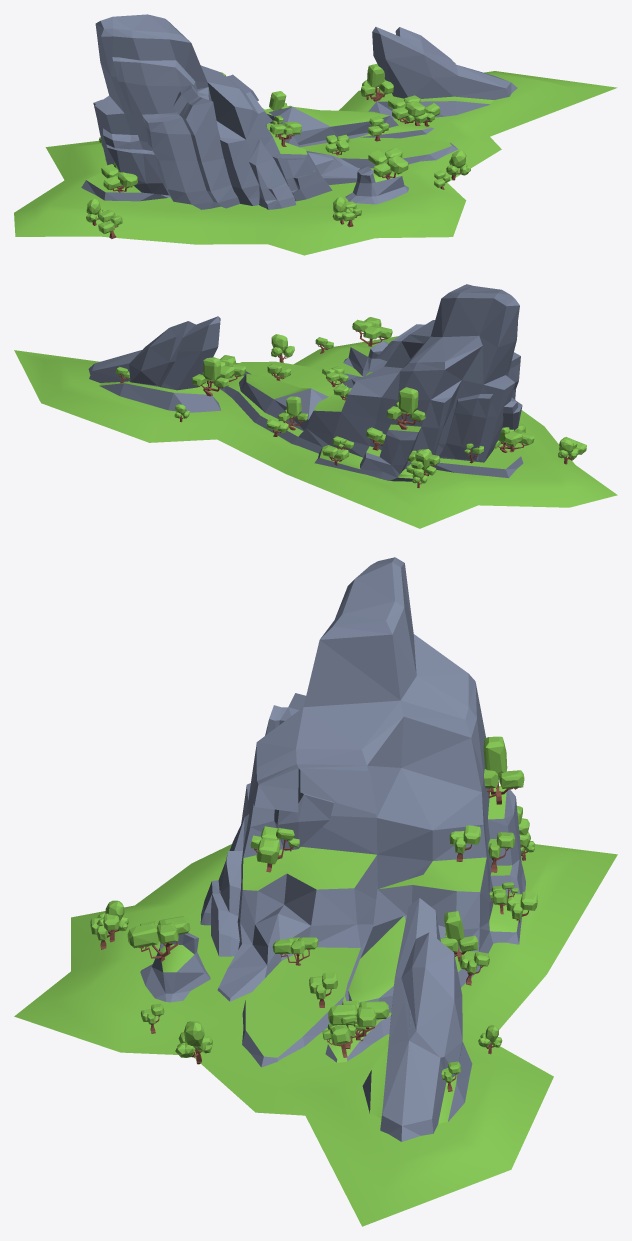
Rendered from geostructures_no6.fbx.
3 views of the same model, one above another, from view 1: azimuth 30°, elevation 25°; view 2: azimuth 150°, elevation 25°; view 3: azimuth 270°, elevation 25° (orthographic). The views are drawn at different scales.
Visible parts, largest first — view 1: landform_06shrubbed:geology, landform_06shrubbed:shrubs; view 2: landform_06shrubbed:geology, landform_06shrubbed:shrubs; view 3: landform_06shrubbed:geology, landform_06shrubbed:shrubs.
Boxes of the visible parts, x1=… form: landform_06shrubbed:geology: x1=14, y1=14, x2=617, y2=255; landform_06shrubbed:shrubs: x1=86, y1=62, x2=470, y2=238; landform_06shrubbed:geology: x1=14, y1=284, x2=617, y2=528; landform_06shrubbed:shrubs: x1=115, y1=317, x2=586, y2=487; landform_06shrubbed:geology: x1=14, y1=557, x2=617, y2=1226; landform_06shrubbed:shrubs: x1=90, y1=736, x2=537, y2=1091.
Size of the model in its own units: 47430 by 13936 by 26350.
